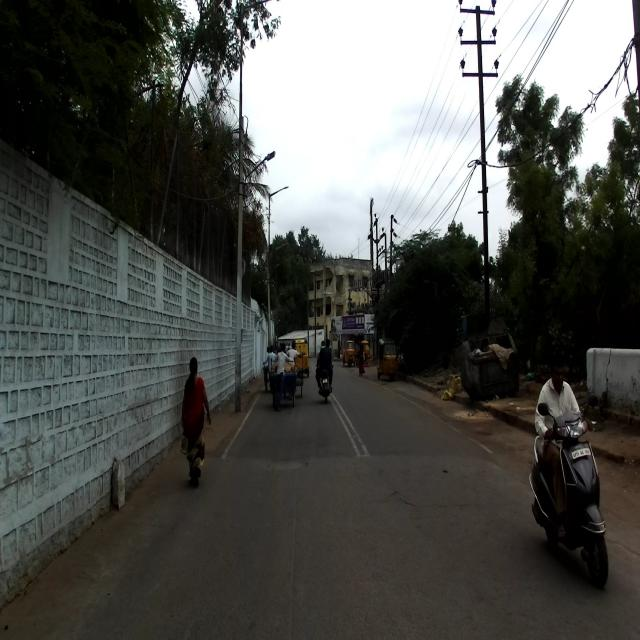autorickshaw: (342, 339, 355, 367)
scooter: (528, 402, 610, 588)
